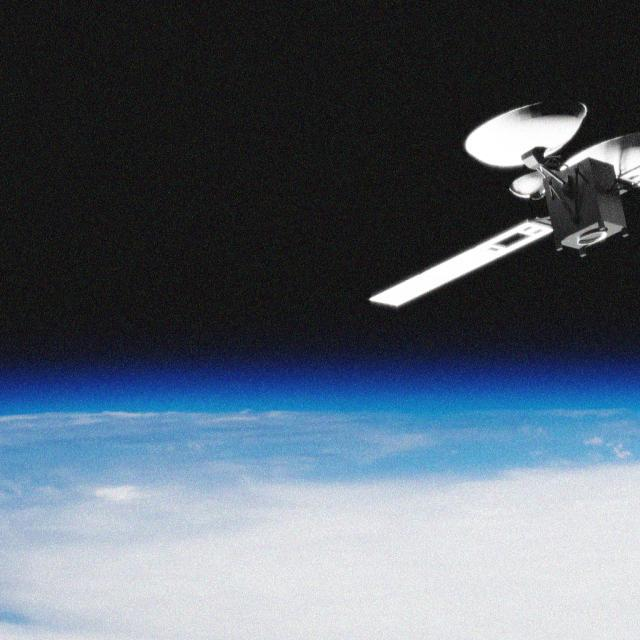satellite: (317, 78, 640, 325)
